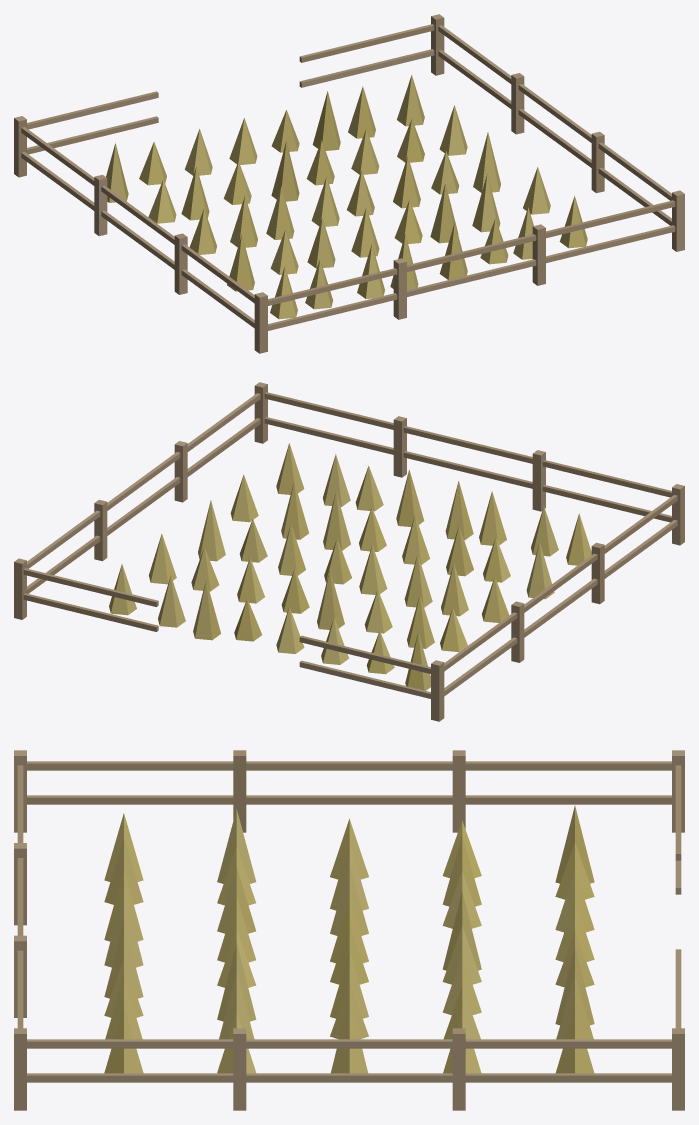
File: crop_field.glb
The picture shows the model from 3 angles, top to bottom: view 1: azimuth 30°, elevation 25°; view 2: azimuth 150°, elevation 25°; view 3: azimuth 270°, elevation 25°; orthographic projection. The views are drawn at different scales.
Visible parts, largest first — view 1: crop_field2; view 2: crop_field2; view 3: crop_field2.
Part boxes in pixels (x1,y1,x2,y2): crop_field2: (14,14,684,353); crop_field2: (14,382,684,721); crop_field2: (14,750,684,1110).
Size of the model in its own units: 7.14 by 1.05 by 7.14.
